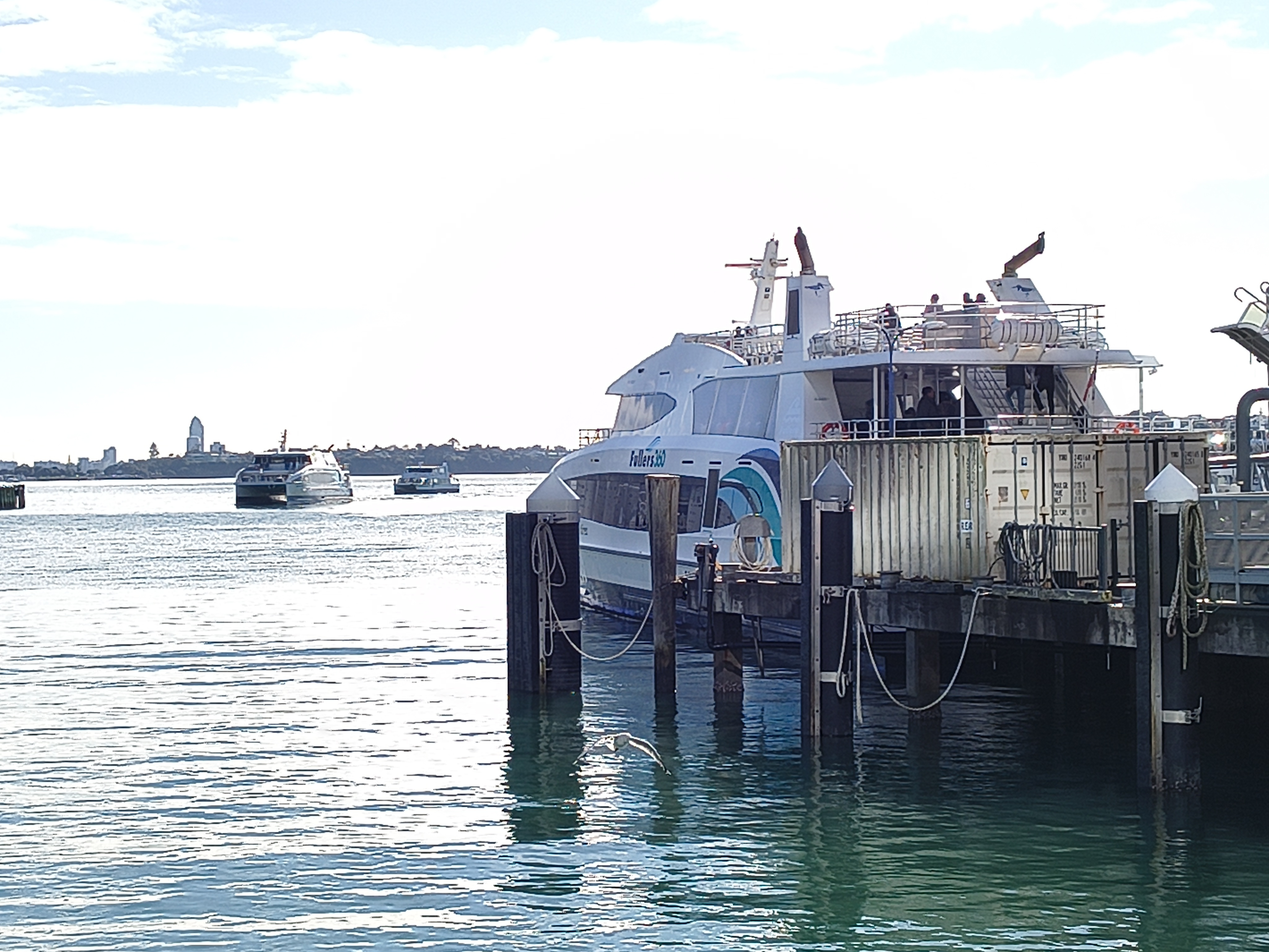ferry: (524, 240, 1159, 649), (234, 438, 353, 503)
